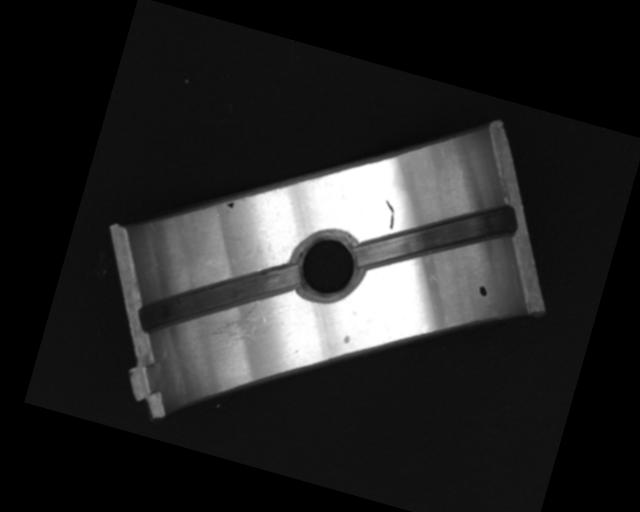blot: (476, 283, 490, 298), (225, 199, 236, 210)
bruise: (342, 332, 352, 345)
gap: (137, 227, 303, 367), (354, 172, 514, 304)
hole: (285, 222, 369, 307)
nick: (379, 200, 400, 230)
scratch: (191, 286, 270, 359)
